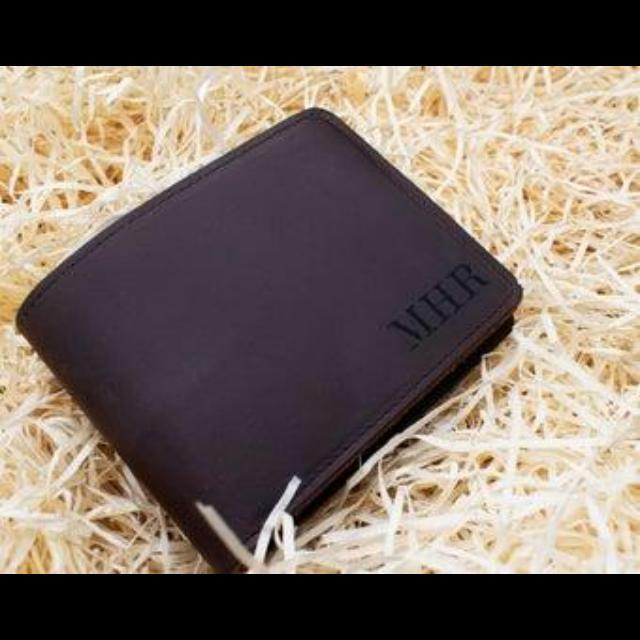wallet: (15, 103, 521, 572)
